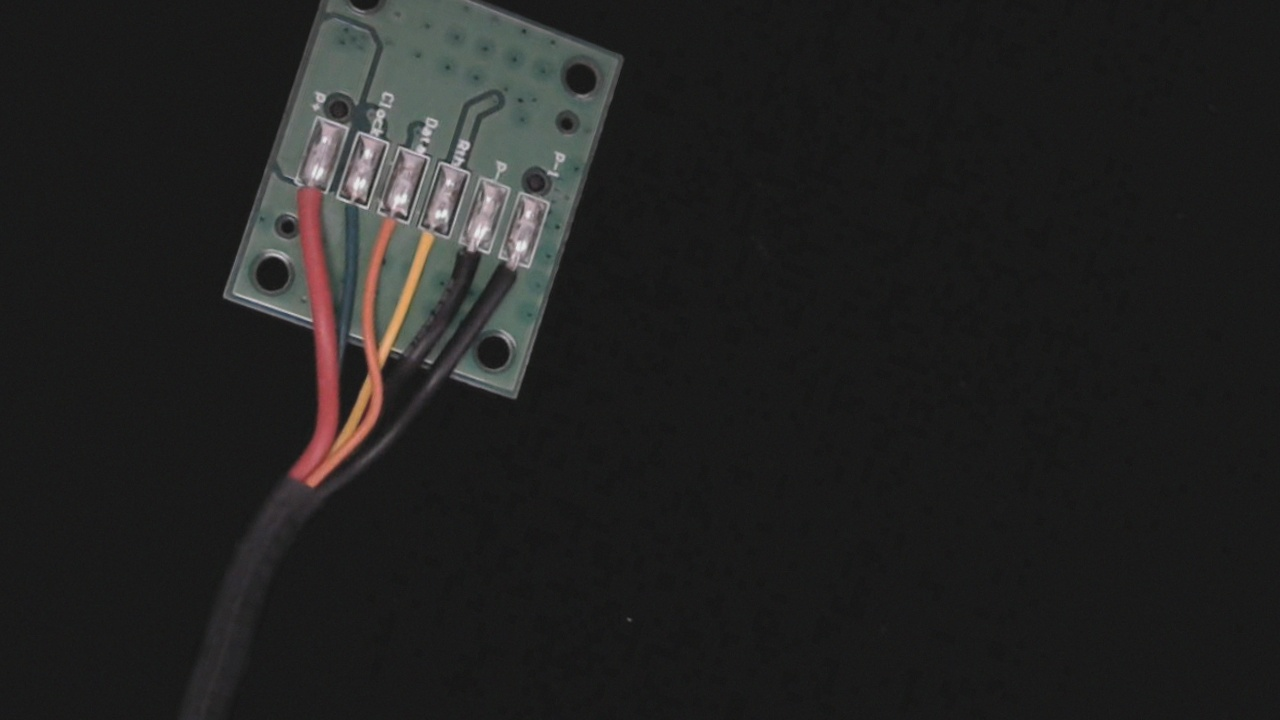Black: (438, 224, 494, 307)
Black1: (481, 242, 539, 325)
Green: (319, 178, 376, 255)
Orange: (360, 193, 415, 270)
Red: (274, 162, 334, 249)
Yellow: (402, 210, 453, 289)
